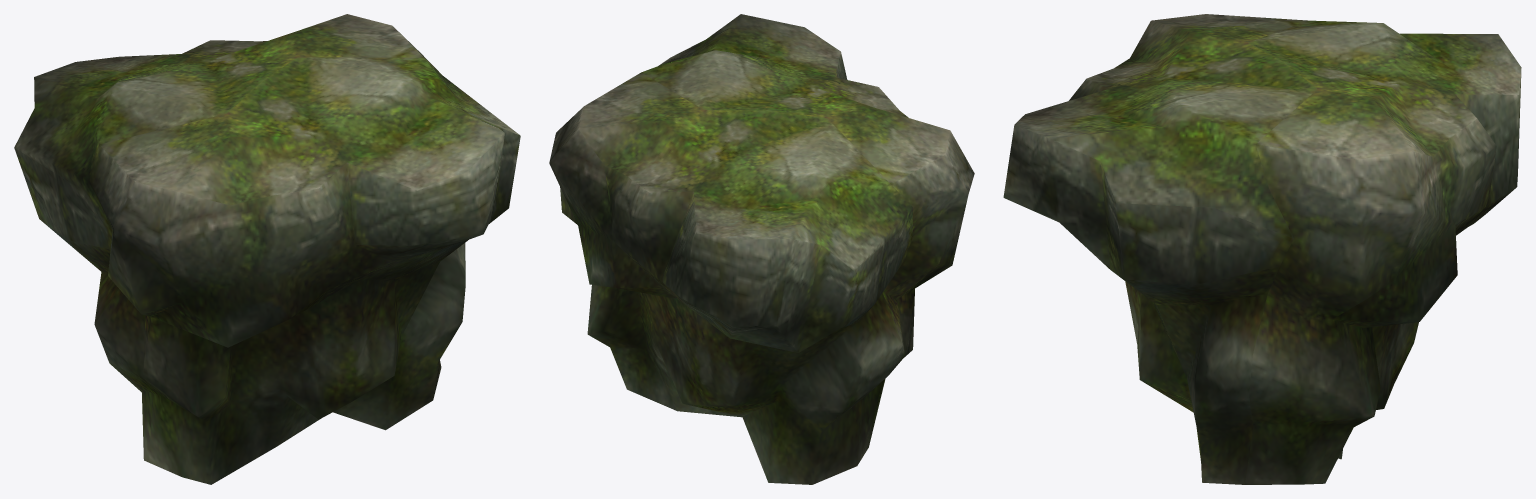
Rendered from S_Rock_Green042.FBX.
The picture shows the model from 3 angles, left to right: view 1: azimuth 30°, elevation 25°; view 2: azimuth 150°, elevation 25°; view 3: azimuth 270°, elevation 25°; orthographic projection. The views are drawn at different scales.
Parts seen in each view (by area): view 1: S_Rock_Green042; view 2: S_Rock_Green042; view 3: S_Rock_Green042.
Part boxes in pixels (x1=…): S_Rock_Green042: x1=14, y1=14, x2=520, y2=484; S_Rock_Green042: x1=549, y1=14, x2=974, y2=484; S_Rock_Green042: x1=1003, y1=14, x2=1521, y2=484.
Bounding box in the file's own units: 948 × 929 × 1034.
